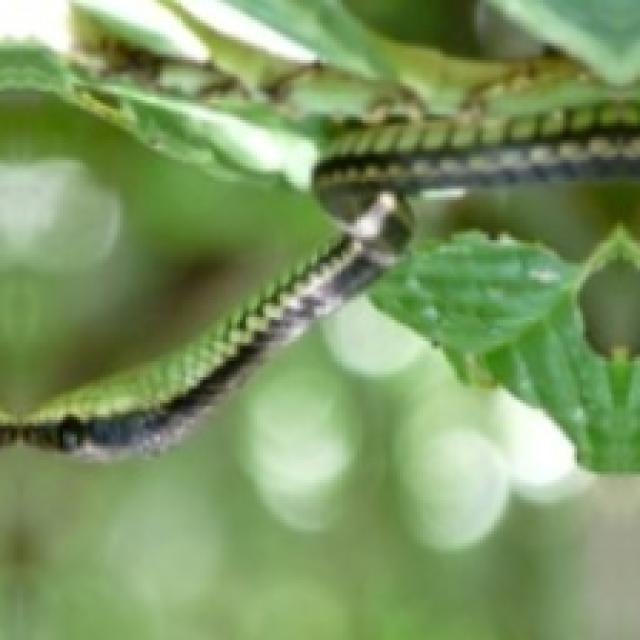philippine bronzeback treesnake: (0, 98, 640, 458)
